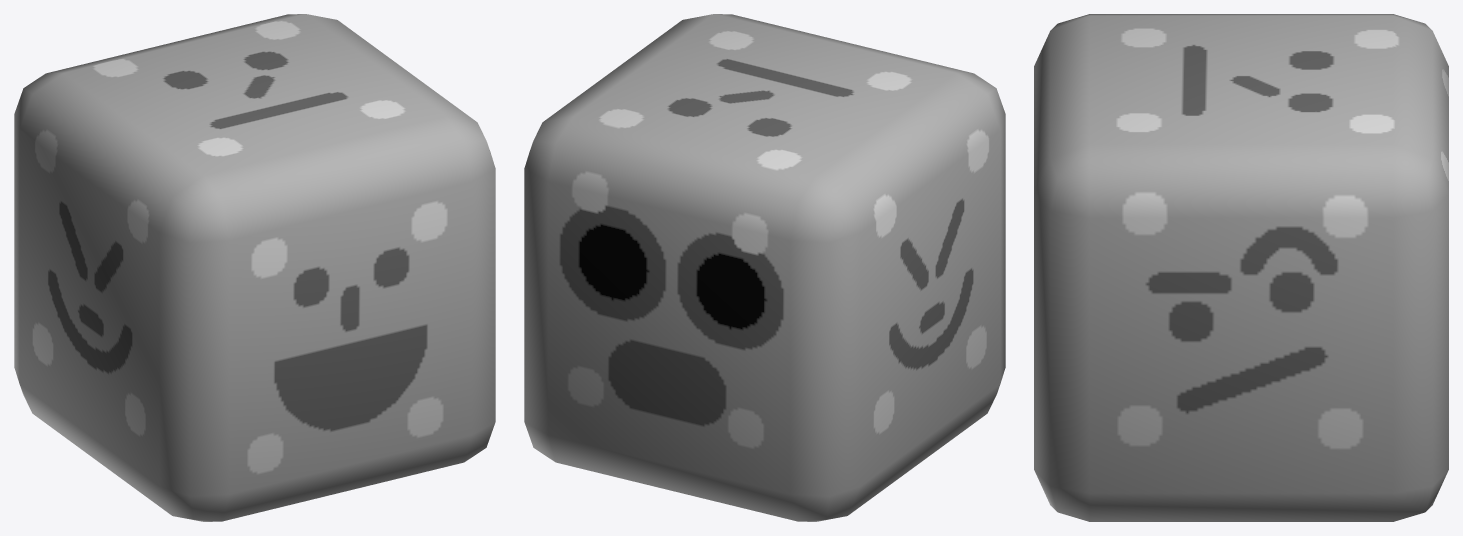
The model's file is JefferyBody.fbx.
3 views of the same model, side by side, from view 1: azimuth 30°, elevation 25°; view 2: azimuth 150°, elevation 25°; view 3: azimuth 270°, elevation 25° (orthographic). The views are drawn at different scales.
Parts seen in each view (by area): view 1: Jeferry Body; view 2: Jeferry Body; view 3: Jeferry Body.
Part boxes in pixels (bbox=[...]): Jeferry Body: bbox=[14, 14, 495, 521]; Jeferry Body: bbox=[524, 14, 1005, 521]; Jeferry Body: bbox=[1034, 14, 1448, 521].
Bounding box in the file's own units: 200 × 200 × 200.
